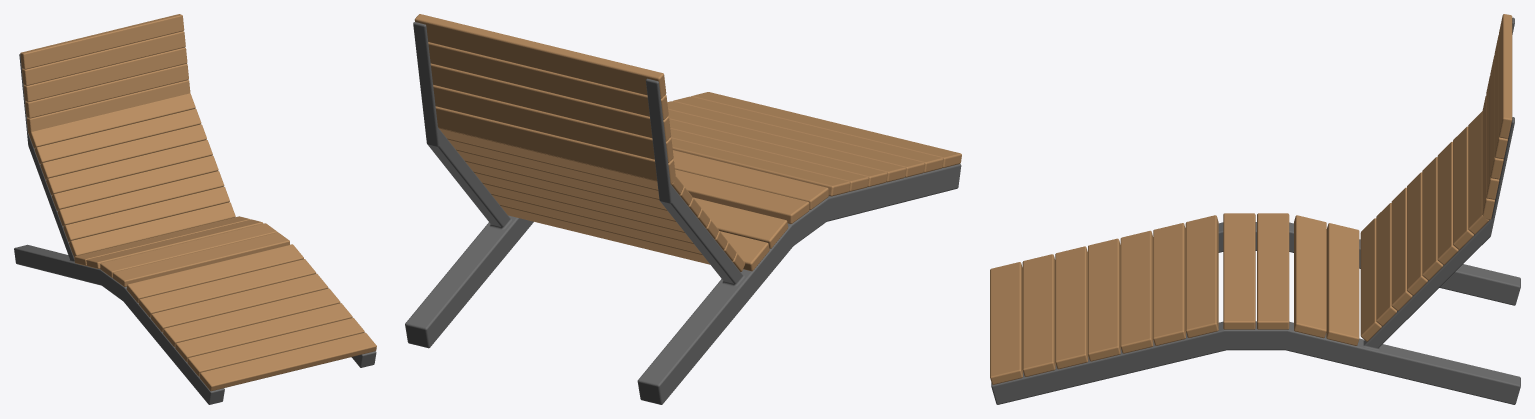
File: Shezlong_1.glb
3 views of the same model, side by side, from view 1: azimuth 30°, elevation 25°; view 2: azimuth 150°, elevation 25°; view 3: azimuth 270°, elevation 25° (orthographic). The views are drawn at different scales.
Parts seen in each view (by area): view 1: Fake; view 2: Fake; view 3: Fake.
Part boxes in pixels (left/top/right/bottom): Fake: left=14, top=14, right=376, bottom=404; Fake: left=405, top=14, right=961, bottom=404; Fake: left=990, top=14, right=1520, bottom=404.
Size of the model in its own units: 1.24 by 1.52 by 2.56.
